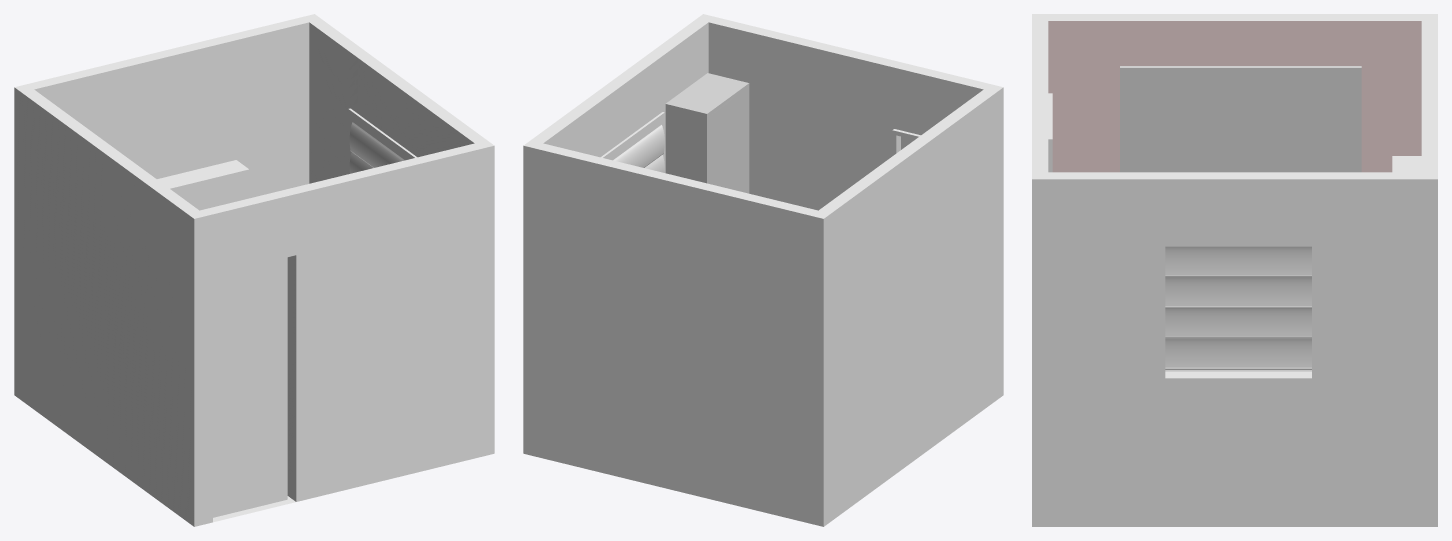
The model's file is room.dae.
3 views of the same model, side by side, from view 1: azimuth 30°, elevation 25°; view 2: azimuth 150°, elevation 25°; view 3: azimuth 270°, elevation 25° (orthographic). The views are drawn at different scales.
Visible parts, largest first — view 1: Layer0_001, Group_008; view 2: Layer0_001, Group_001, Group_008; view 3: Layer0_001, Group_002, Group_008.
Part boxes in pixels (bbox=[...]): Layer0_001: bbox=[14, 14, 494, 526]; Group_008: bbox=[348, 108, 417, 173]; Layer0_001: bbox=[523, 14, 1003, 526]; Group_001: bbox=[665, 73, 749, 193]; Group_008: bbox=[600, 112, 664, 172]; Layer0_001: bbox=[1032, 14, 1437, 526]; Group_002: bbox=[1120, 66, 1361, 172]; Group_008: bbox=[1165, 242, 1311, 369].
Bounding box in the file's own units: 2.67 × 2.77 × 2.62.
